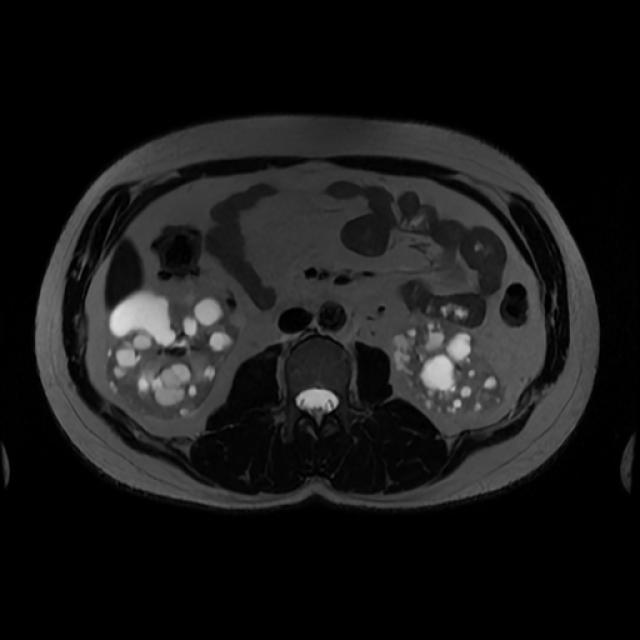sag: (106, 290, 239, 421)
sol: (390, 319, 505, 417)
